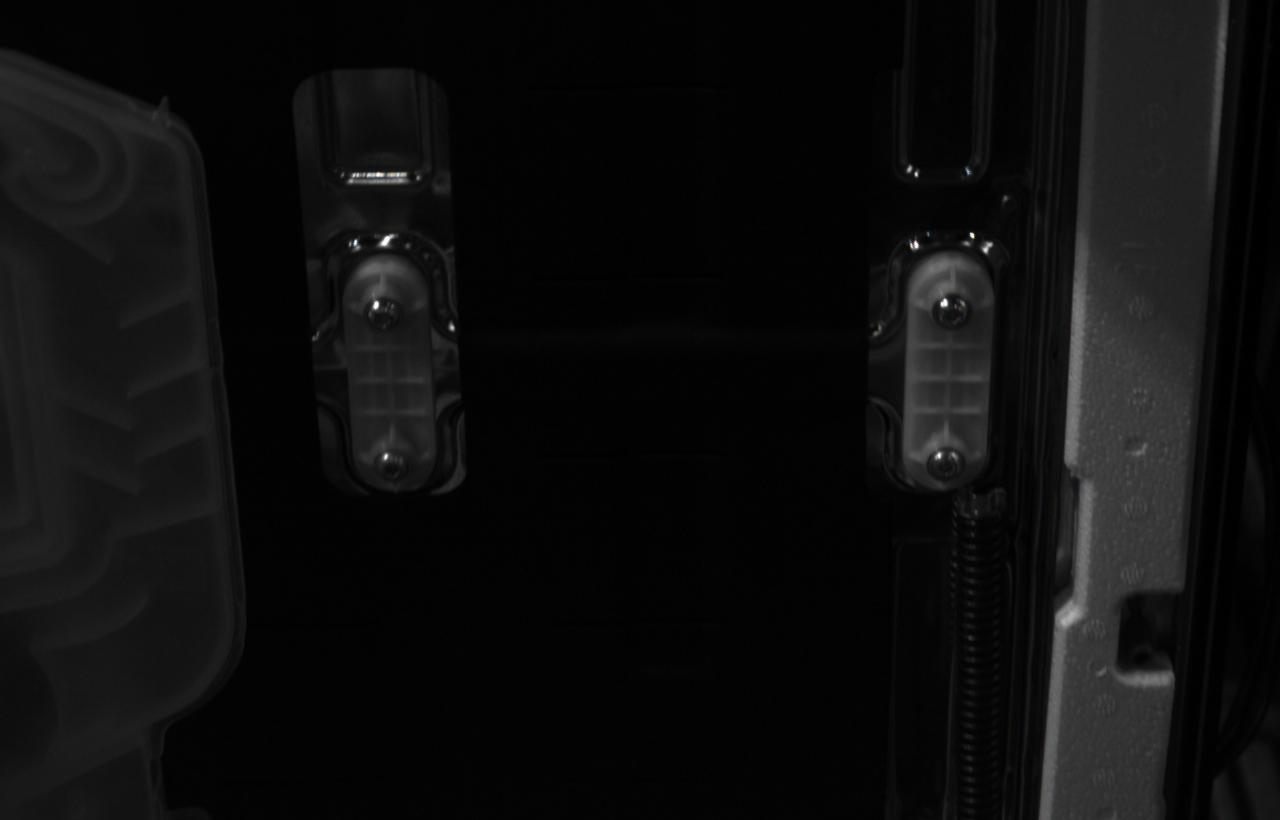vida-ok: (364, 297, 404, 335), (926, 446, 966, 484), (932, 293, 972, 330), (372, 450, 409, 485)
